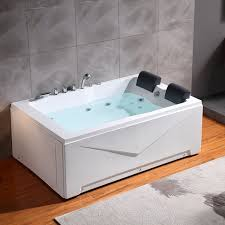bathub: (11, 74, 224, 195)
